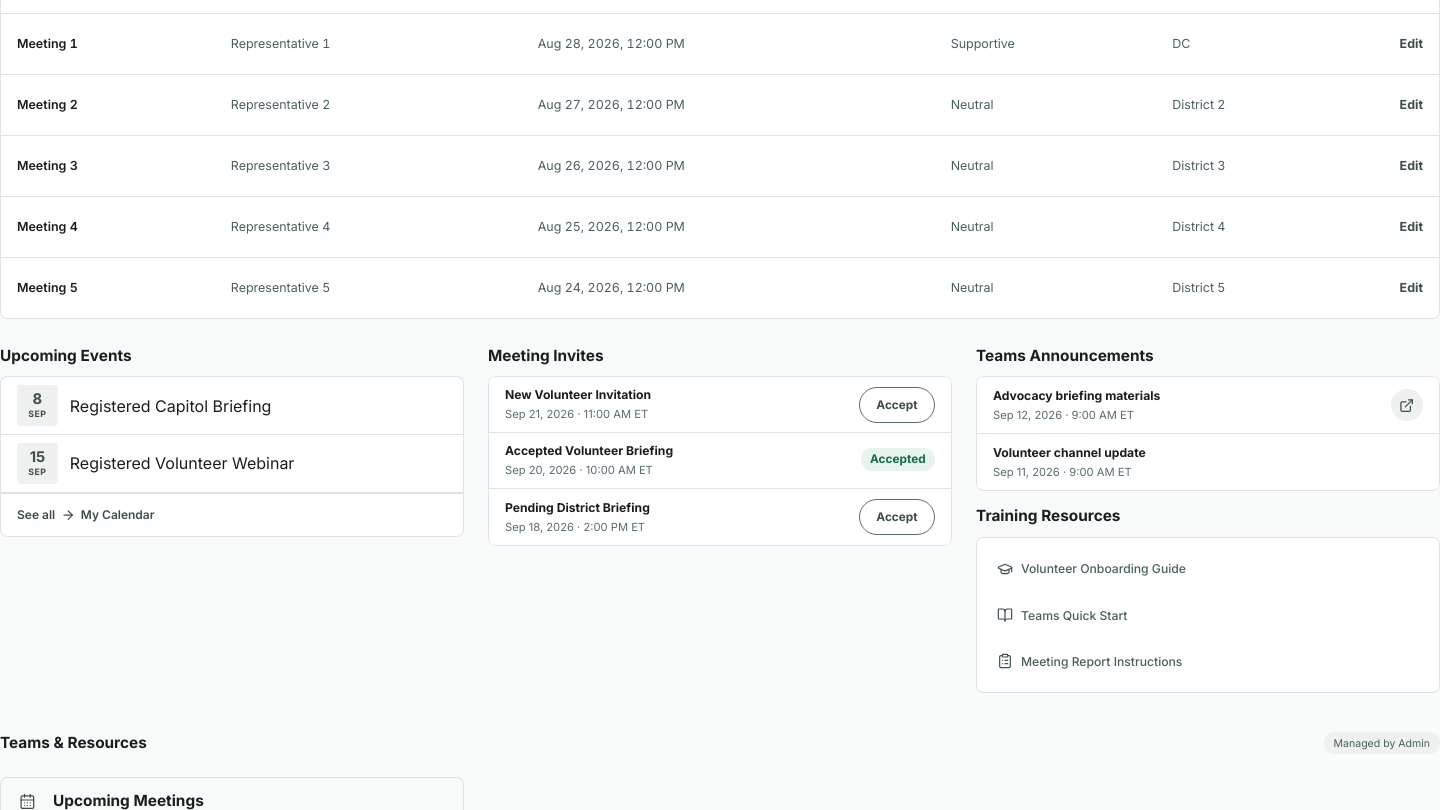
it: renders live Teams announcements and opens row details in a modal
(page scrolled)
Check: the text "Sep 12, 2026 · 9:00 AM ET" is shown, box [993, 408, 1134, 422]
Check: the element named "Advocacy briefing materials has an external link" is shown, box [1391, 389, 1423, 421]
Click the button with aria-label "View Advocacy briefing materials".
click(1077, 395)  # box [977, 377, 1439, 433]
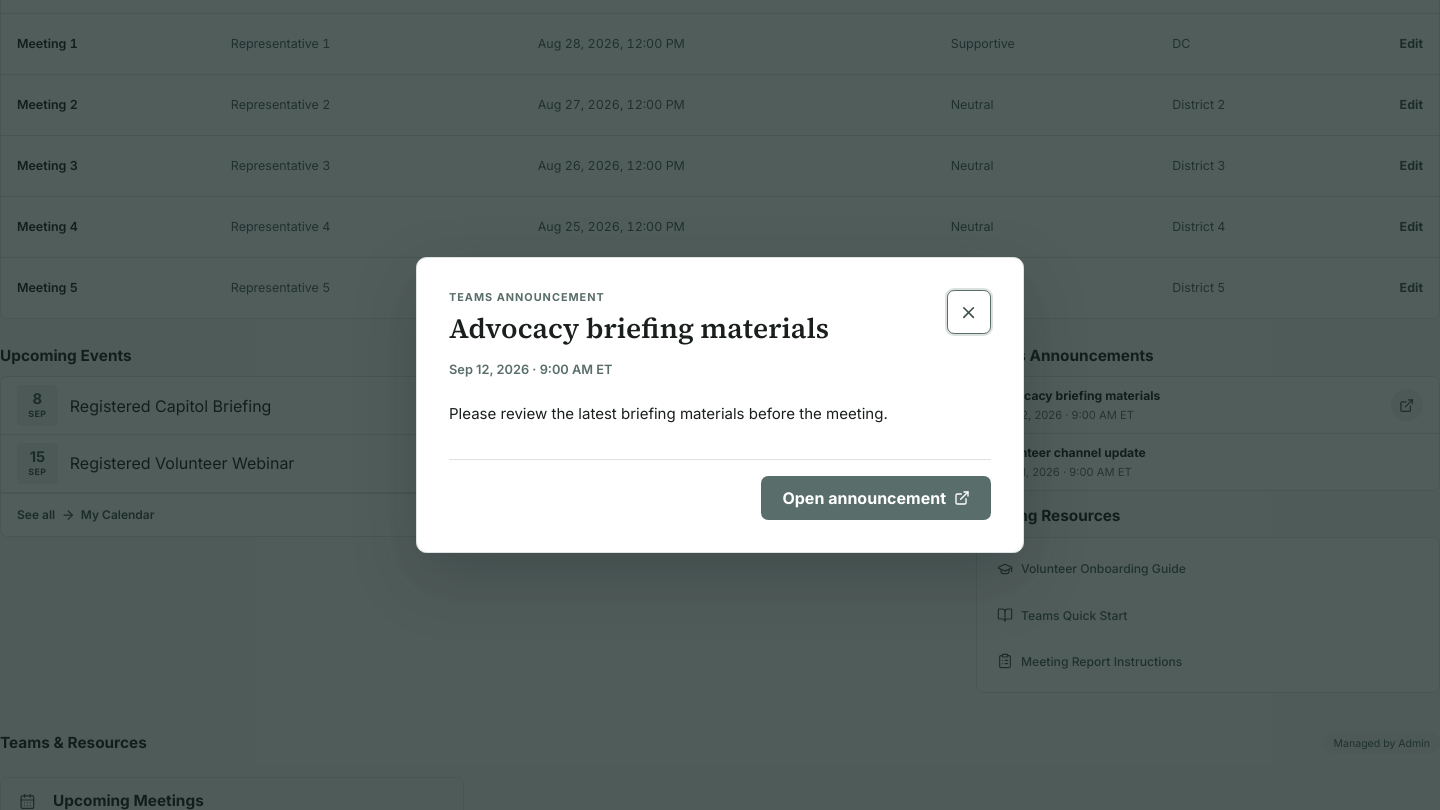
Check: the text "Please review the latest briefing materials before the meeting." is shown, box [449, 404, 888, 423]
Check: the text "Sep 12, 2026 · 9:00 AM ET" is shown, box [449, 362, 612, 377]
Click the button named "Close announcement".
click(969, 312)  # box [947, 290, 991, 334]
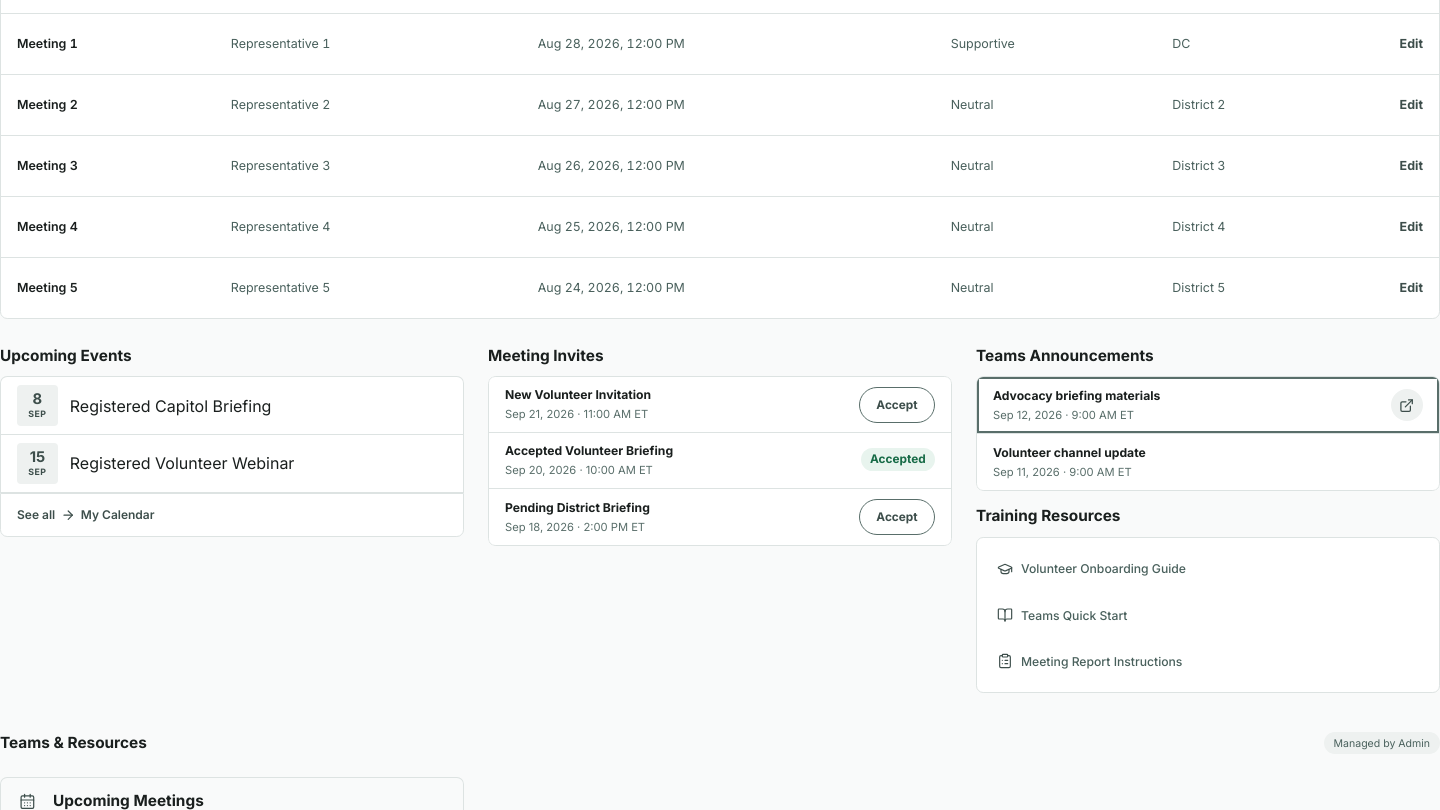
Check: the dialog is gone
